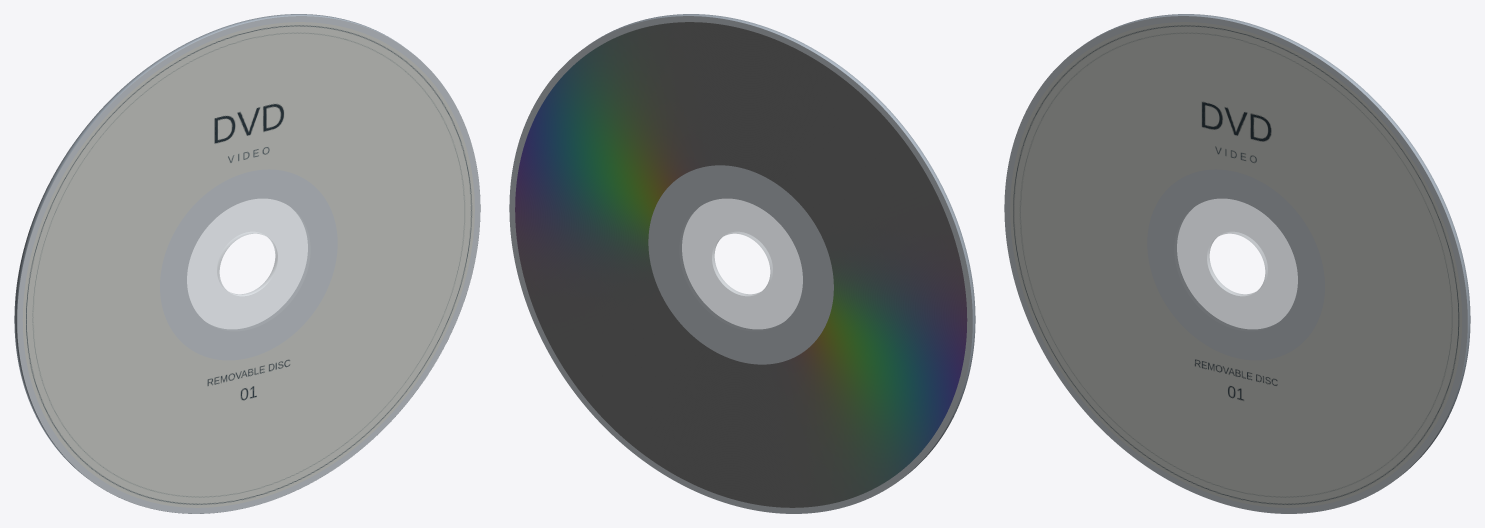
The model's file is removable-dvd.glb.
3 views of the same model, side by side, from view 1: azimuth 30°, elevation 25°; view 2: azimuth 150°, elevation 25°; view 3: azimuth 330°, elevation 25° (orthographic).
Parts seen in each view (by area): view 1: DVD_Disc; view 2: DVD_Disc; view 3: DVD_Disc.
Part boxes in pixels (<box>): DVD_Disc: <box>14,14,480,513</box>; DVD_Disc: <box>509,14,975,513</box>; DVD_Disc: <box>1004,14,1470,513</box>.
Size of the model in its own units: 0.12 by 0.12 by 0.0012.
5 materials, 2 textured.
